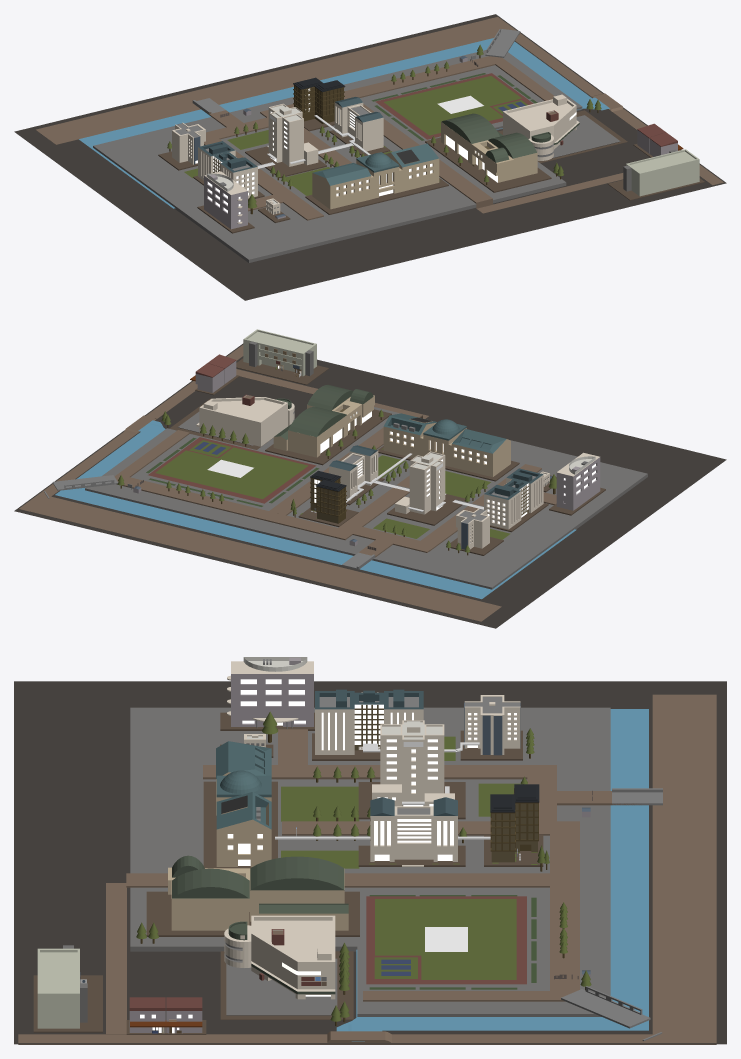
File: building.glb
The picture shows the model from 3 angles, top to bottom: view 1: azimuth 30°, elevation 25°; view 2: azimuth 150°, elevation 25°; view 3: azimuth 270°, elevation 25°; orthographic projection. The views are drawn at different scales.
Parts seen in each view (by area): view 1: 立方体.179, 立方体.120, 平面.041, 平面.032, 平面.012, 立方体.010, 立方体.176, 立方体.133, 立方体.079, 立方体.087, 平面.040, 立方体.107 (+28 smaller); view 2: 立方体.179, 立方体.120, 平面.041, 平面.032, 平面.012, 立方体.176, 立方体.010, 立方体.079, 平面.040, 立方体.087, 立方体.133, 立方体.107 (+27 smaller); view 3: 立方体.179, 立方体.120, 平面.041, 平面.032, 平面.012, 平面.040, 立方体.176, 立方体.107, 立方体.087, 立方体.010, 立方体.097, 平面.026 (+40 smaller).
Part boxes in pixels (<box>): 立方体.179: <box>14,14,726,300</box>; 立方体.120: <box>93,50,582,262</box>; 平面.041: <box>35,19,499,144</box>; 平面.032: <box>79,38,609,208</box>; 平面.012: <box>184,76,521,195</box>; 立方体.010: <box>356,143,439,199</box>; 立方体.176: <box>503,94,579,149</box>; 立方体.133: <box>626,149,699,196</box>; 立方体.079: <box>312,163,371,209</box>; 立方体.087: <box>268,103,303,166</box>; 平面.040: <box>486,17,723,185</box>; 立方体.107: <box>204,171,247,229</box>; 立方体.179: <box>14,343,726,628</box>; 立方体.120: <box>85,407,647,589</box>; 平面.041: <box>28,496,501,621</box>; 平面.032: <box>55,420,576,599</box>; 平面.012: <box>155,447,510,539</box>; 立方体.176: <box>196,394,287,446</box>; 立方体.010: <box>383,413,466,467</box>; 立方体.079: <box>451,429,510,477</box>; 平面.040: <box>19,345,243,511</box>; 立方体.087: <box>409,451,445,514</box>; 立方体.133: <box>243,329,316,376</box>; 立方体.107: <box>556,452,600,510</box>; 立方体.179: <box>14,681,726,1044</box>; 立方体.120: <box>130,707,610,1016</box>; 平面.041: <box>652,694,716,1035</box>; 平面.032: <box>336,709,648,1041</box>; 平面.012: <box>281,736,520,979</box>; 平面.040: <box>18,1031,716,1044</box>; 立方体.176: <box>251,915,335,999</box>; 立方体.107: <box>231,661,313,726</box>; 立方体.087: <box>380,720,444,806</box>; 立方体.010: <box>216,775,271,866</box>; 立方体.097: <box>315,689,383,754</box>; 平面.026: <box>126,873,549,887</box>.
Bounding box in the file's own units: 28.88 × 3.23 × 23.98.
